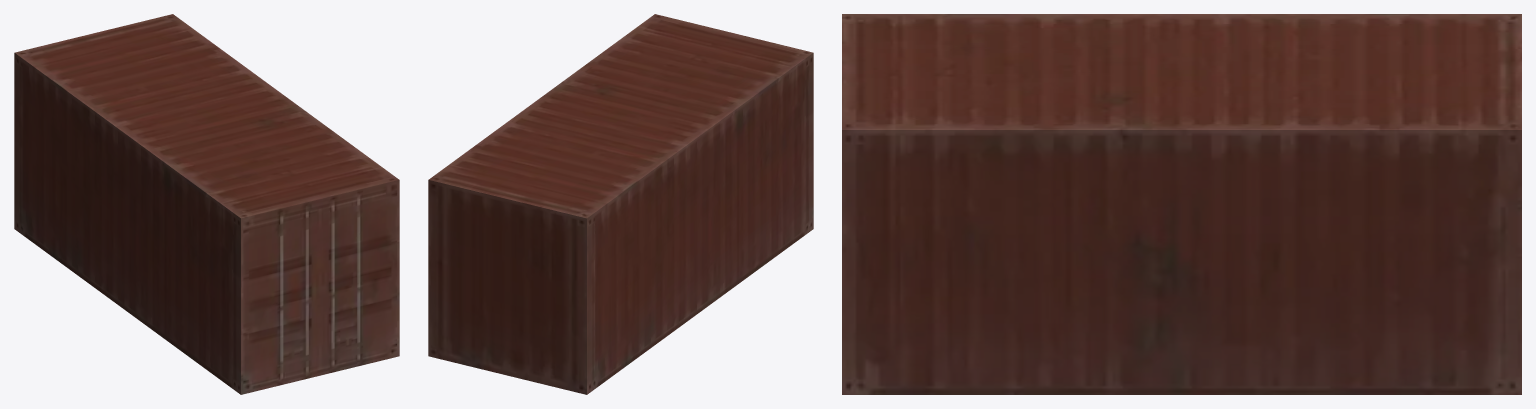
Rendered from container.glb.
3 renders of one model, left to right at view 1: azimuth 30°, elevation 25°; view 2: azimuth 150°, elevation 25°; view 3: azimuth 270°, elevation 25°, orthographic. The views are drawn at different scales.
Visible parts, largest first — view 1: Crate.002; view 2: Crate.002; view 3: Crate.002.
Part boxes in pixels (x1=…): Crate.002: x1=14, y1=14, x2=399, y2=394; Crate.002: x1=428, y1=14, x2=813, y2=394; Crate.002: x1=842, y1=14, x2=1521, y2=394.
Bounding box in the file's own units: 2.43 × 2.59 × 6.02.
Materials: 1 (1 with a texture image).
